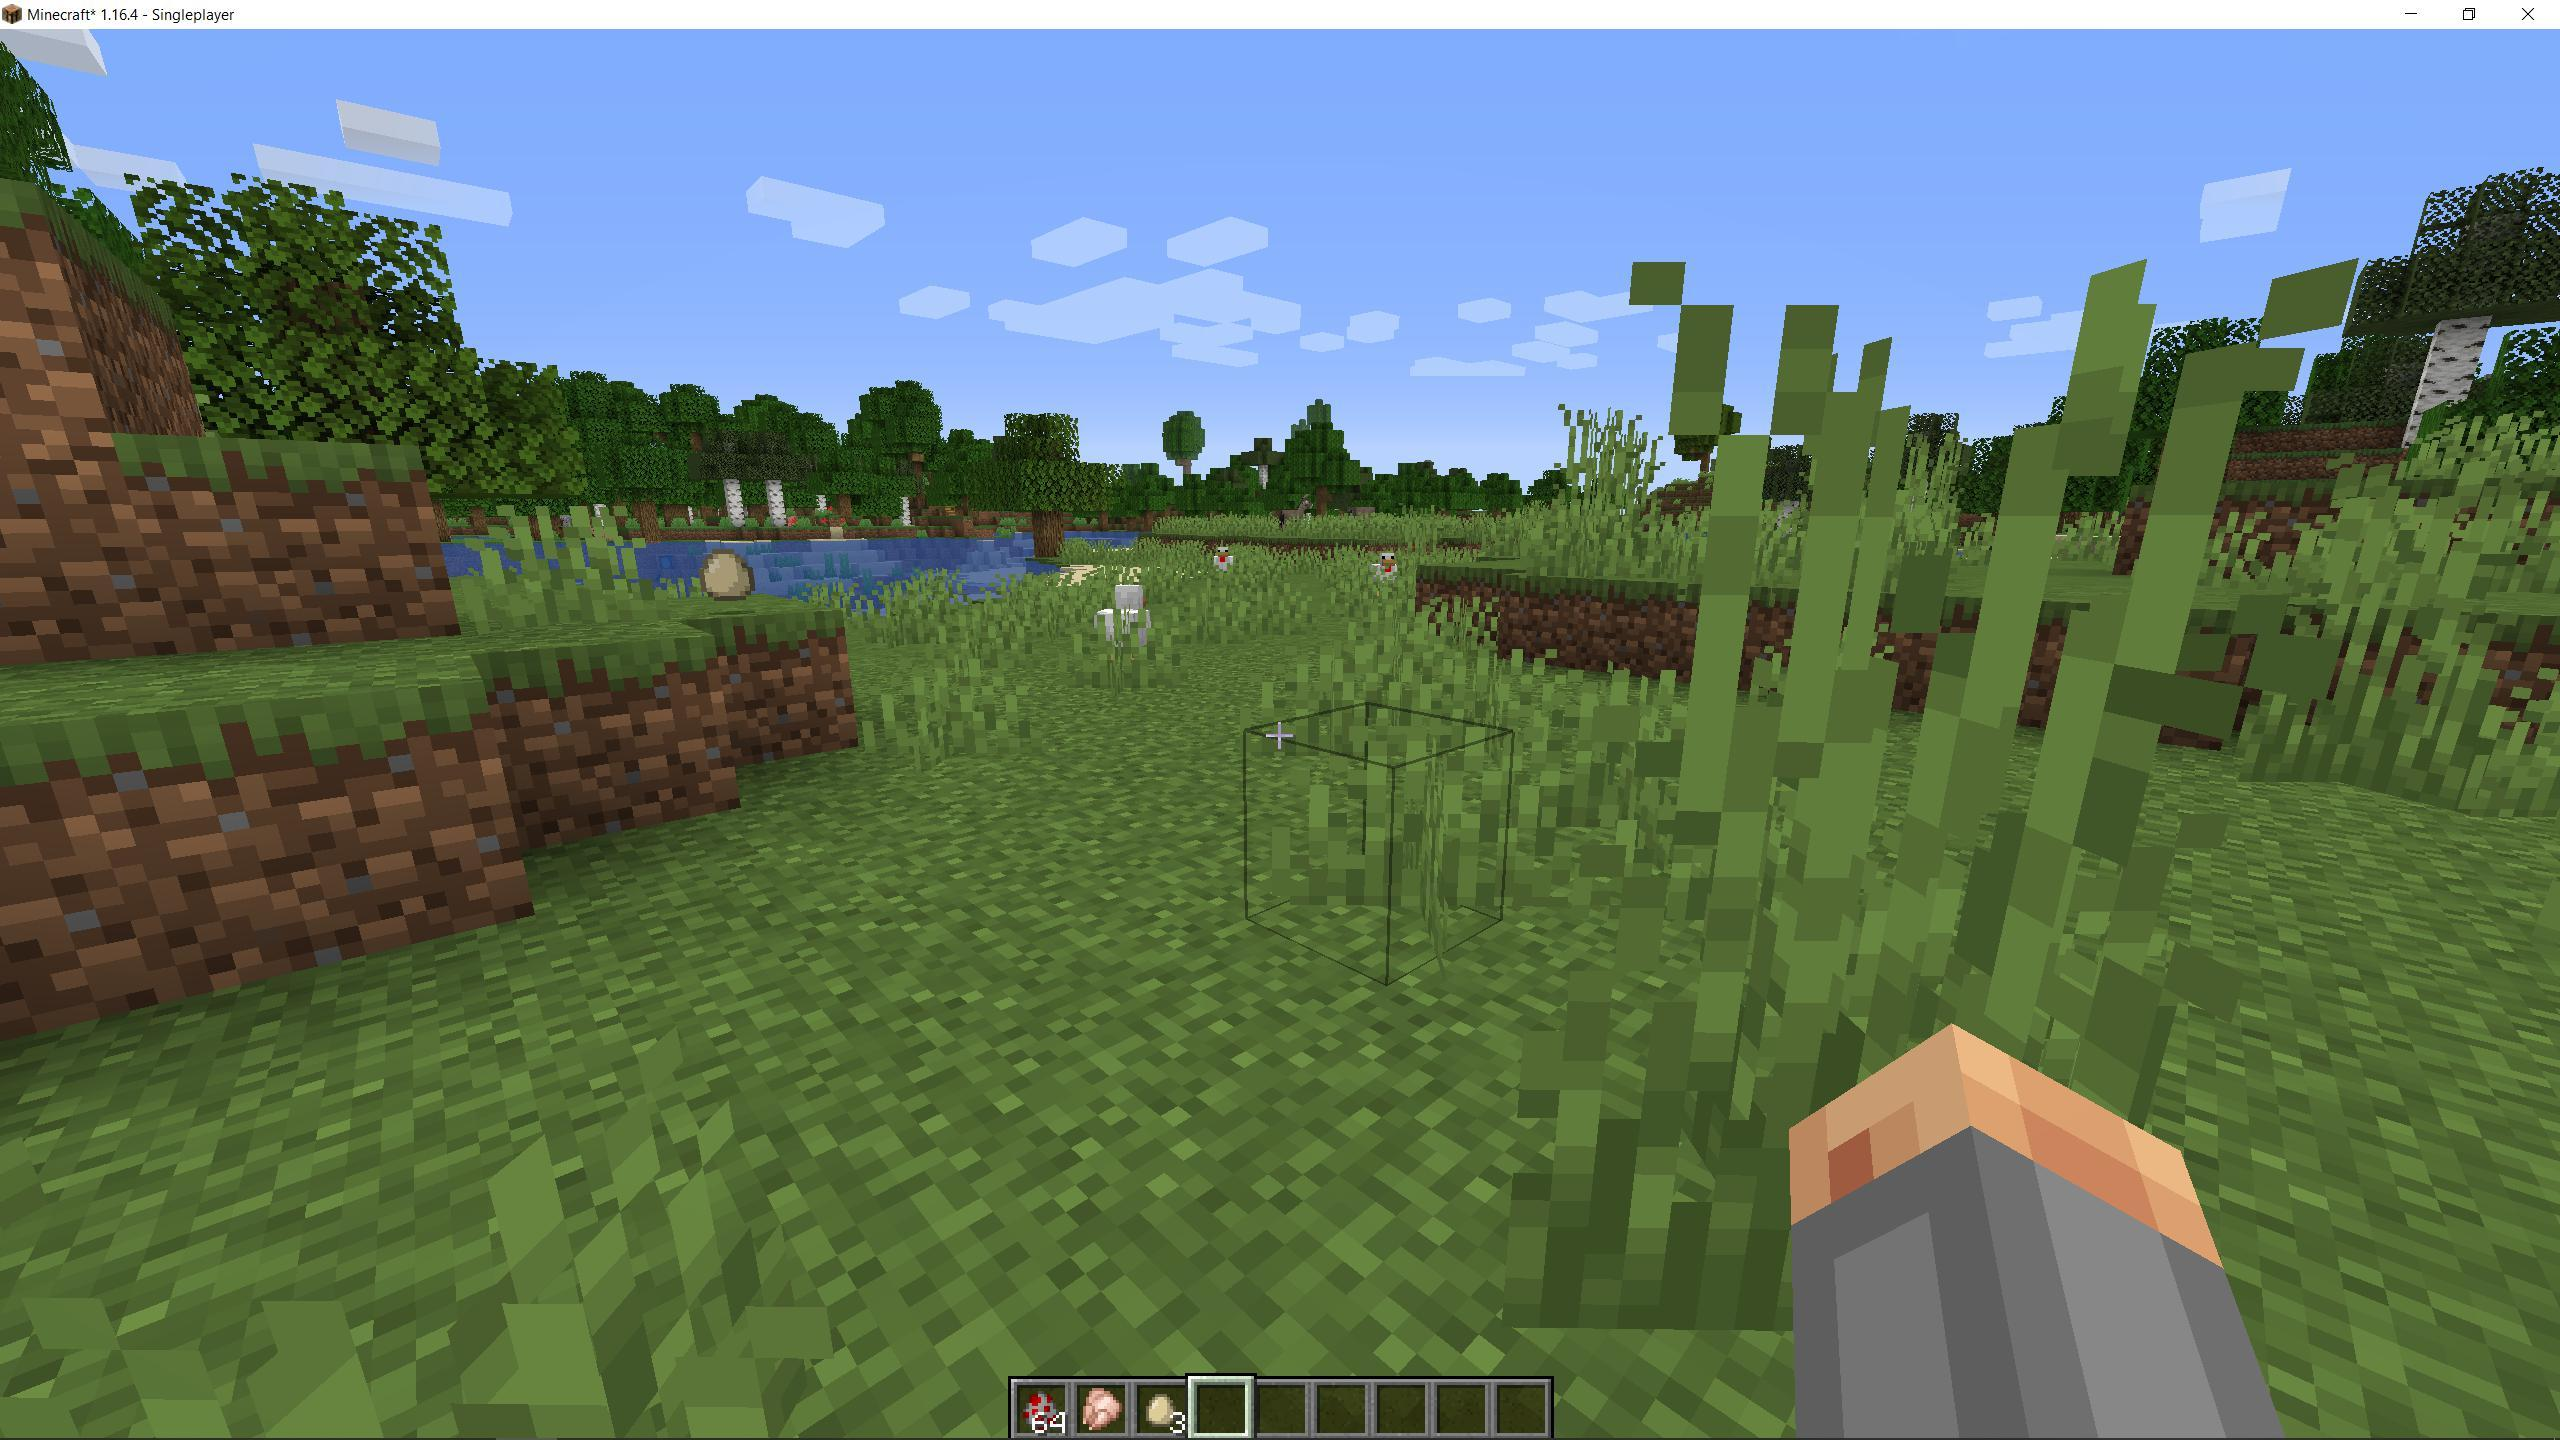chicken: (1090, 575, 1159, 661)
